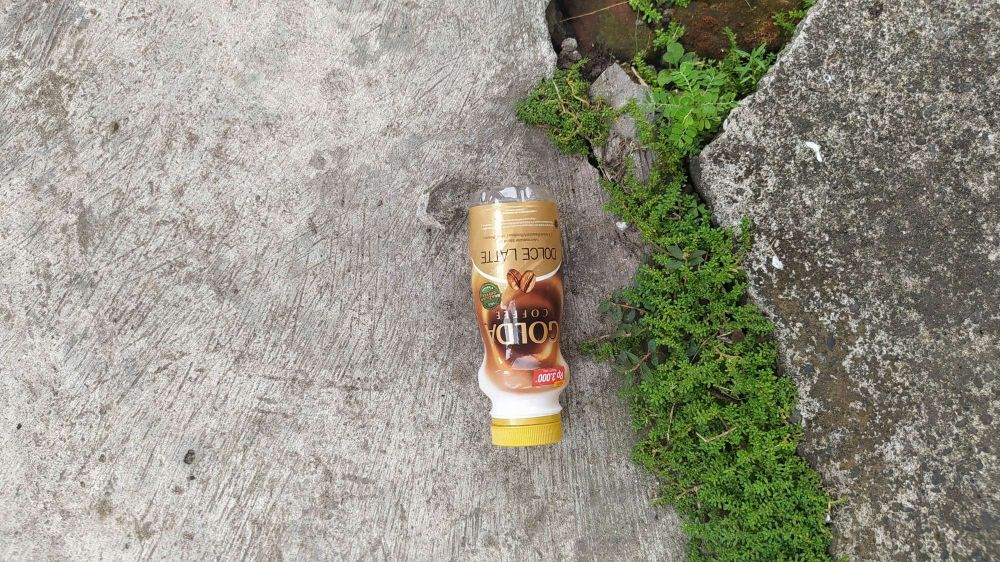botol: (445, 180, 592, 458)
